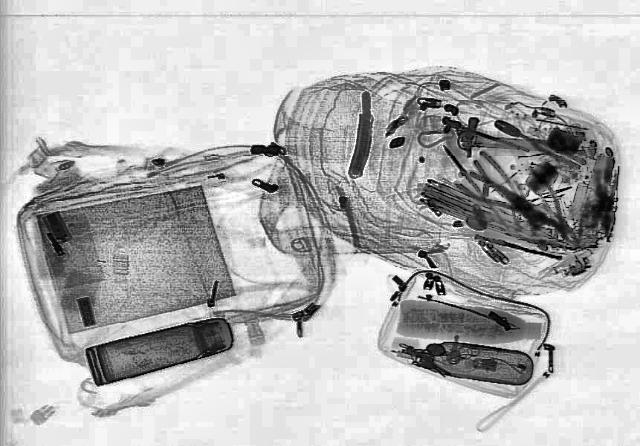Pliers: (508, 170, 594, 252), (486, 113, 590, 170), (450, 169, 552, 225)
